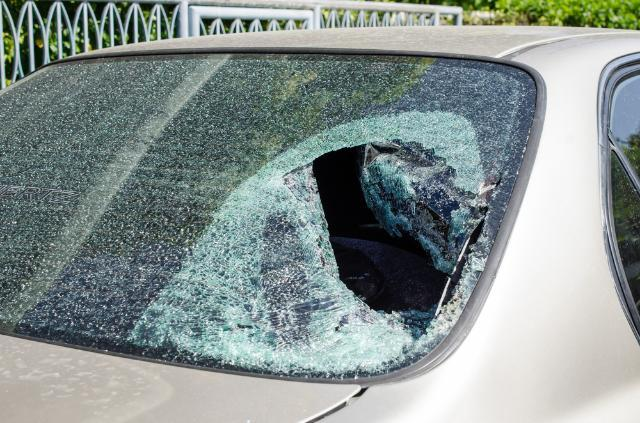glass shatter: (0, 53, 537, 380)
